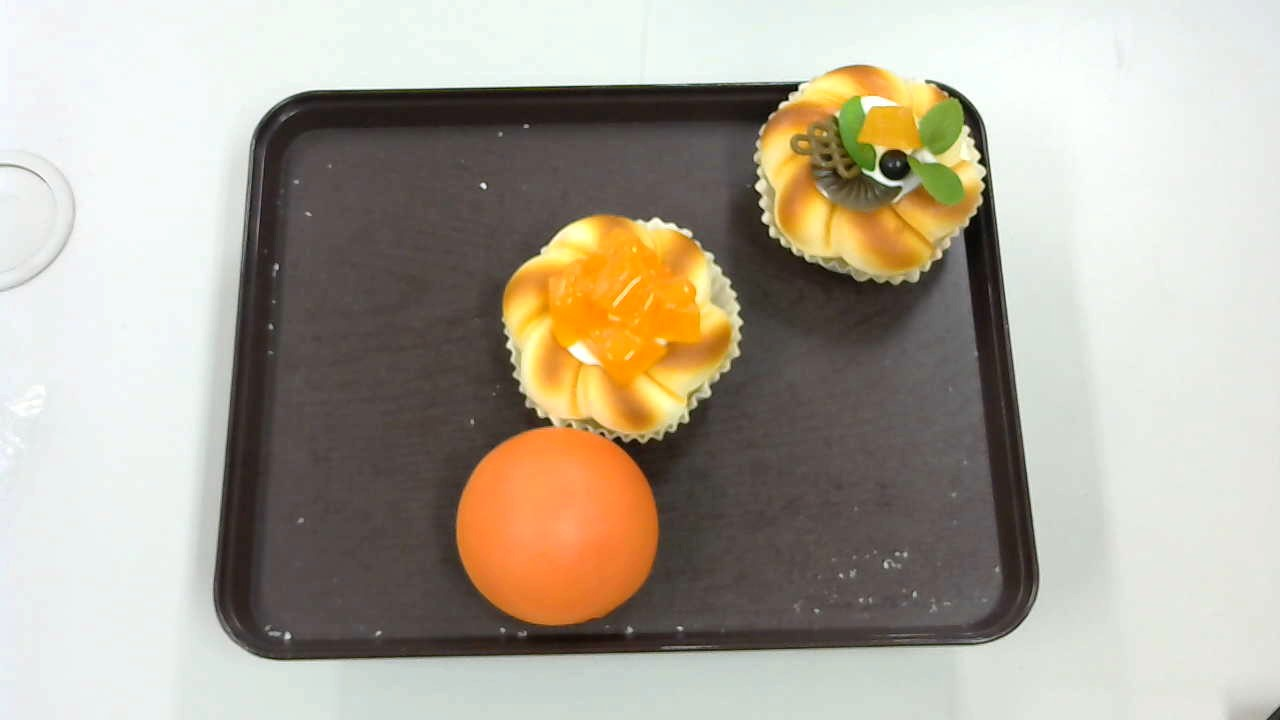bun: (456, 427, 659, 624)
fruit tart: (754, 64, 987, 285)
mango tart: (502, 213, 744, 443)
